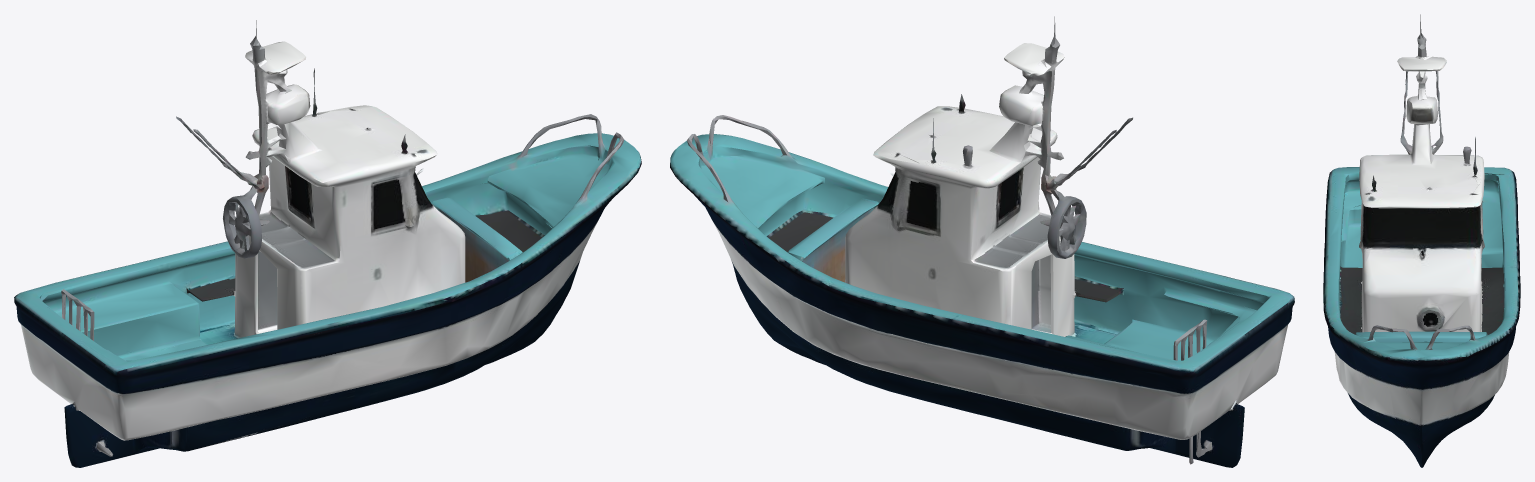
File: boat.glb
The picture shows the model from 3 angles, left to right: view 1: azimuth 30°, elevation 25°; view 2: azimuth 150°, elevation 25°; view 3: azimuth 270°, elevation 25°; orthographic projection. The views are drawn at different scales.
Visible parts, largest first — view 1: boat; view 2: boat; view 3: boat.
Part boxes in pixels (x1=…): boat: x1=14, y1=20, x2=641, y2=467; boat: x1=670, y1=16, x2=1294, y2=467; boat: x1=1323, y1=14, x2=1520, y2=467.
Bounding box in the file's own units: 6.08 × 4.2 × 2.14.
1 material, 1 textured.
